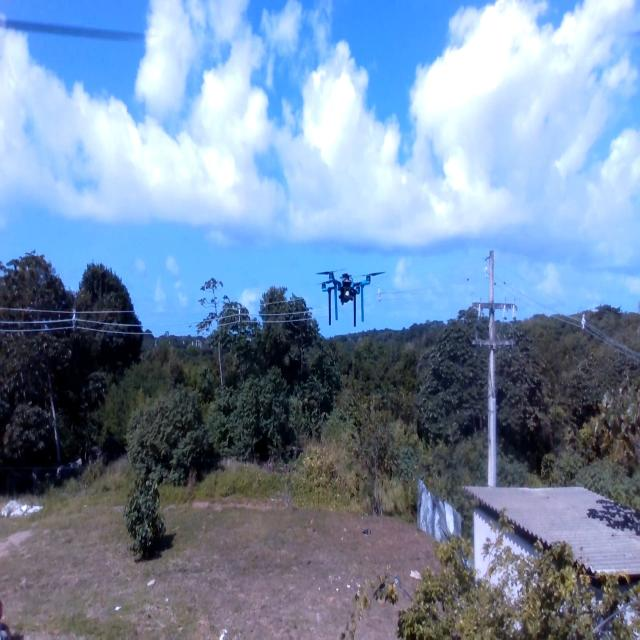-uav-: (310, 246, 388, 333)
